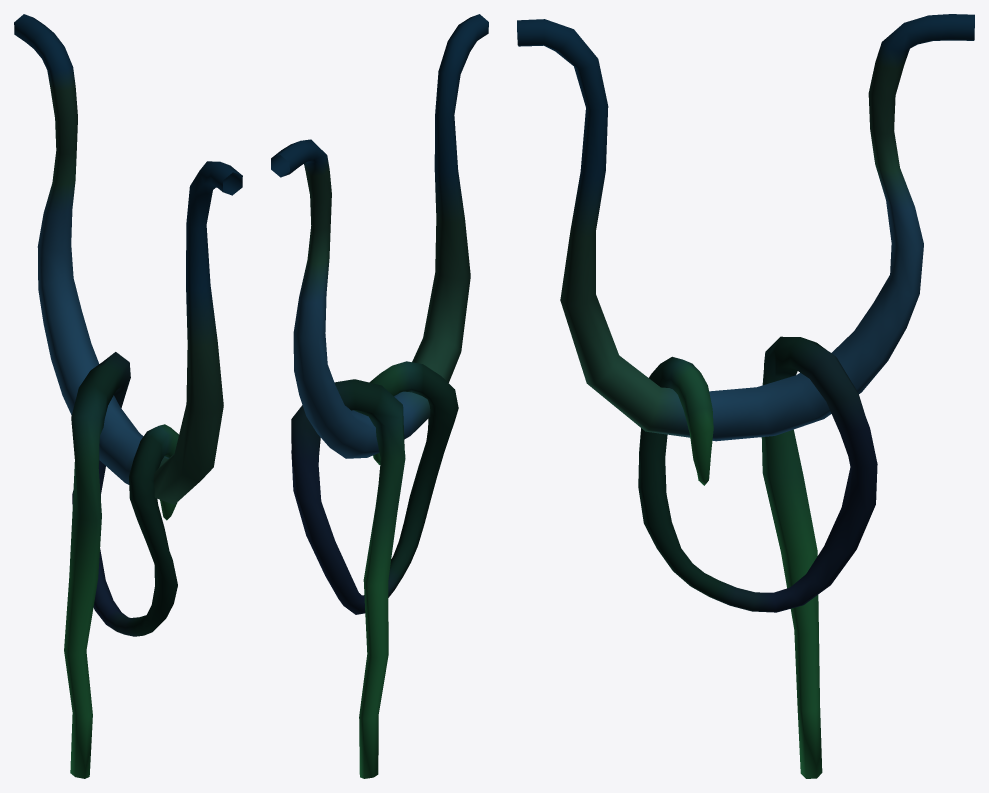
Rendered from Alien_SkyRoot03.fbx.
The picture shows the model from 3 angles, left to right: view 1: azimuth 30°, elevation 25°; view 2: azimuth 150°, elevation 25°; view 3: azimuth 270°, elevation 25°; orthographic projection. The views are drawn at different scales.
Parts seen in each view (by area): view 1: Alien_SkyRoot03; view 2: Alien_SkyRoot03; view 3: Alien_SkyRoot03.
Part boxes in pixels (x1,y1,x2,y2): Alien_SkyRoot03: [14, 14, 242, 778]; Alien_SkyRoot03: [271, 14, 488, 778]; Alien_SkyRoot03: [517, 14, 974, 778].
Size of the model in its own units: 1209 by 9540 by 5135.
